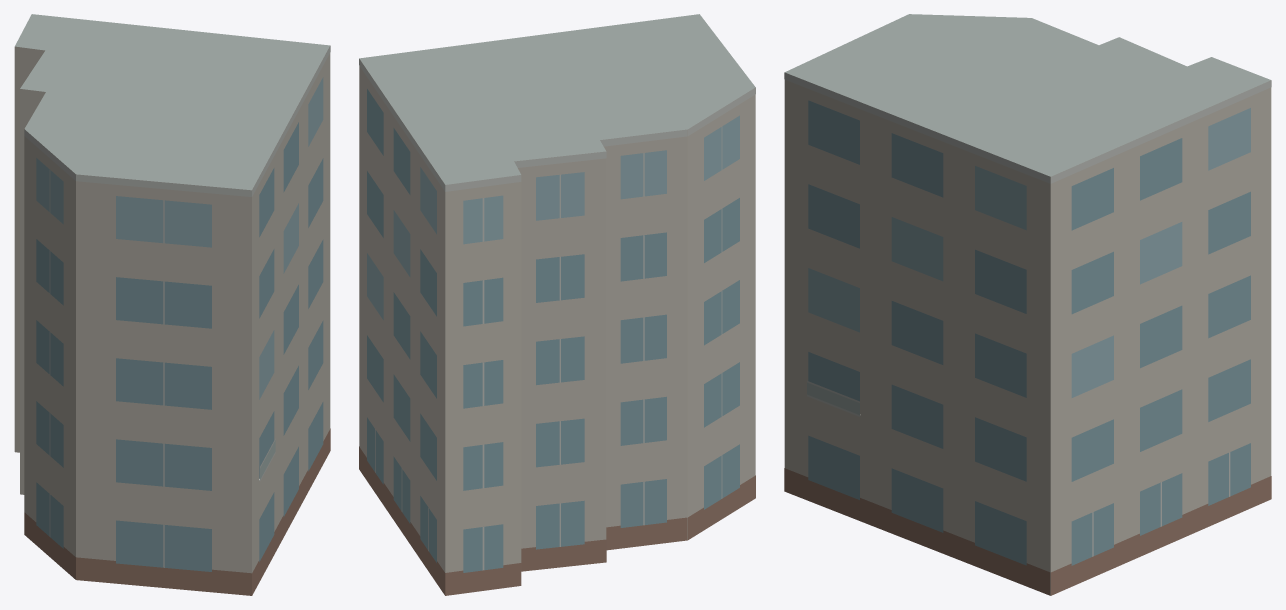
Rendered from survey-upis-32851936.glb.
3 views of the same model, side by side, from view 1: azimuth 30°, elevation 25°; view 2: azimuth 150°, elevation 25°; view 3: azimuth 270°, elevation 25° (orthographic). The views are drawn at different scales.
Visible parts, largest first — view 1: survey-upis-32851936.tmp; view 2: survey-upis-32851936.tmp; view 3: survey-upis-32851936.tmp.
Boxes of the visible parts, x1=… form: survey-upis-32851936.tmp: x1=14, y1=14, x2=330, y2=595; survey-upis-32851936.tmp: x1=359, y1=14, x2=755, y2=595; survey-upis-32851936.tmp: x1=784, y1=14, x2=1271, y2=595.
Size of the model in its own units: 12.01 by 14.4 by 15.17.
